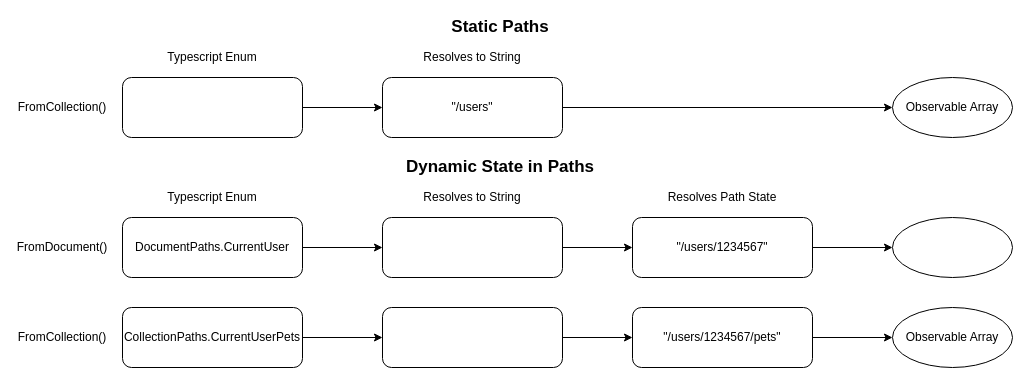
Some shapes in this 1030 by 385 pixel diagram are drawn without their labels. Here are the shapes that lost their labels. From the top down, the centre of each, then its label:
(x=212, y=107): CollectionPaths.Users
(x=472, y=247): "/users/${userId}"
(x=952, y=247): Observable Object
(x=472, y=337): "/users/${userId}/pets"
